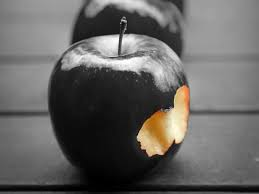damaged_apple: (49, 33, 191, 174)
